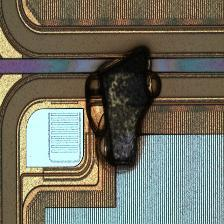PARTICLE: (78, 38, 172, 181)
